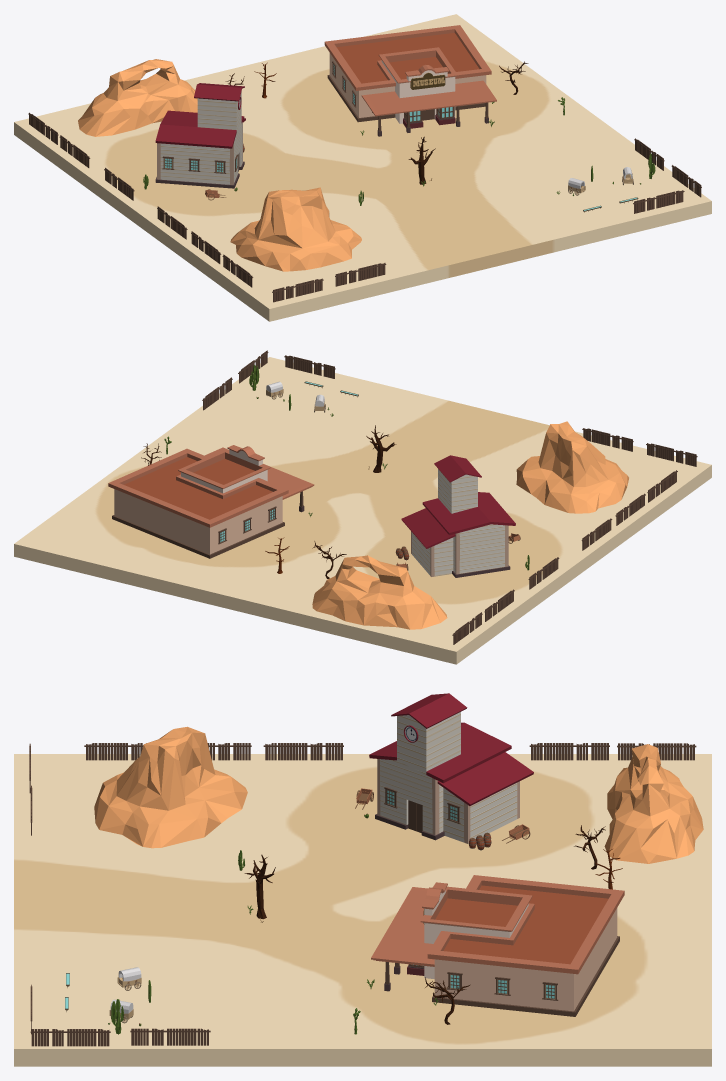
File: D8_Milestone.fbx
The picture shows the model from 3 angles, top to bottom: view 1: azimuth 30°, elevation 25°; view 2: azimuth 150°, elevation 25°; view 3: azimuth 270°, elevation 25°; orthographic projection. The views are drawn at different scales.
Parts seen in each view (by area): view 1: Plane.966, Desert_plant_008.012; view 2: Plane.966, Desert_plant_008.012; view 3: Plane.966, Desert_plant_008.012.
Boxes of the visible parts, x1=… form: Plane.966: x1=14, y1=14, x2=711, y2=321; Desert_plant_008.012: x1=143, y1=61, x2=655, y2=205; Plane.966: x1=14, y1=350, x2=711, y2=664; Desert_plant_008.012: x1=141, y1=365, x2=529, y2=578; Plane.966: x1=14, y1=693, x2=711, y2=1066; Desert_plant_008.012: x1=108, y1=813, x2=622, y2=1034.
Bounding box in the file's own units: 12400 × 2668 × 12400.
15 materials, 13 textured.
